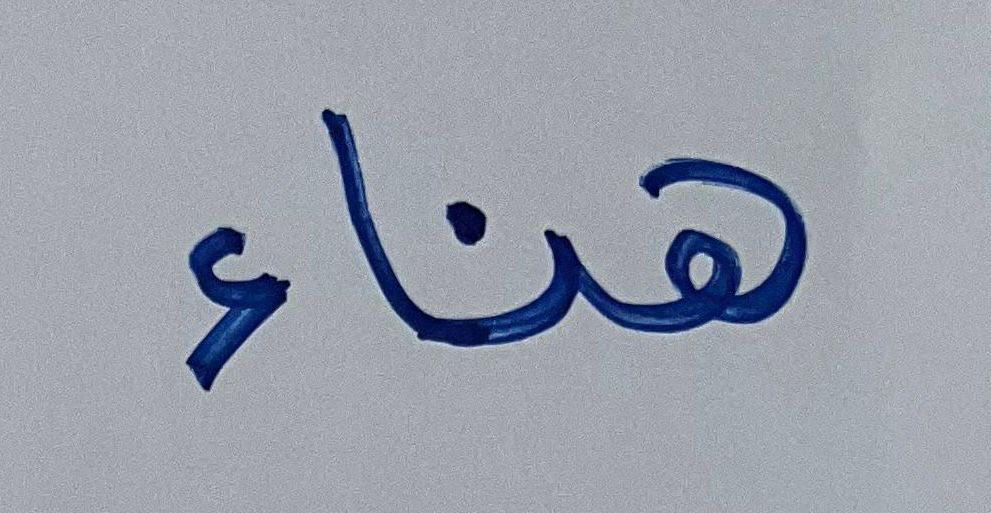alef: (305, 73, 407, 368)
khah: (115, 206, 297, 413)
noon: (412, 174, 579, 393)
qaf: (587, 110, 843, 372)
